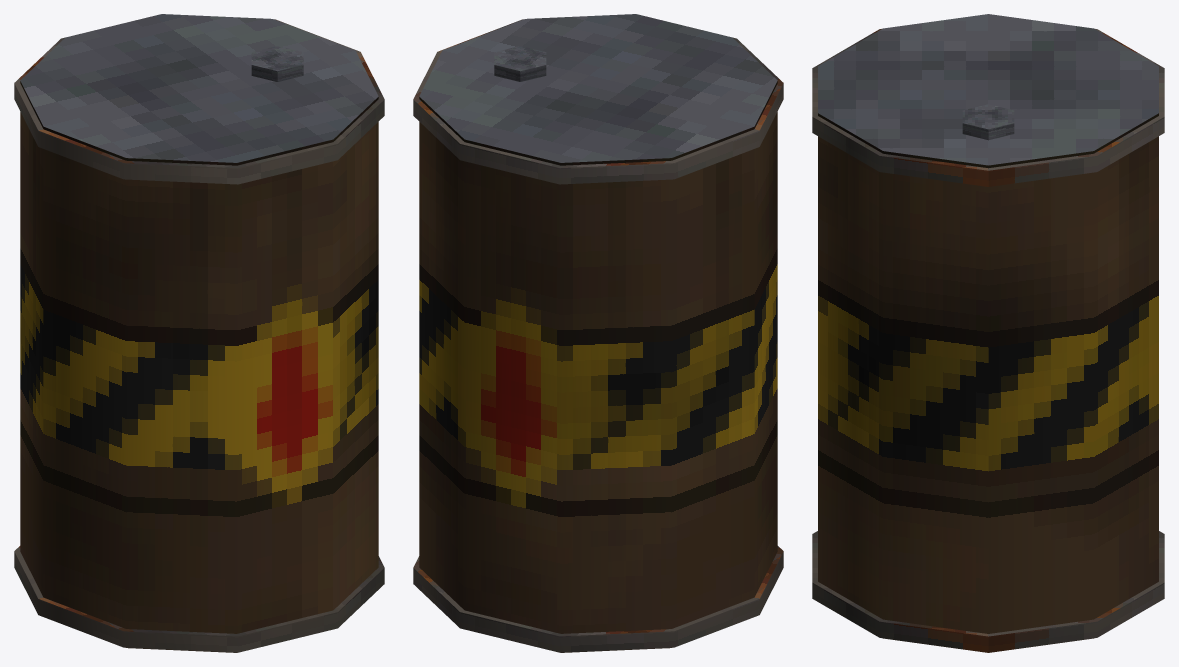
File: barrel_explosive.glb
3 views of the same model, side by side, from view 1: azimuth 30°, elevation 25°; view 2: azimuth 150°, elevation 25°; view 3: azimuth 270°, elevation 25° (orthographic).
Parts seen in each view (by area): view 1: barrel_explosive; view 2: barrel_explosive; view 3: barrel_explosive.
Boxes of the visible parts, bbox=[...] form: barrel_explosive: bbox=[14, 14, 384, 652]; barrel_explosive: bbox=[413, 14, 783, 652]; barrel_explosive: bbox=[812, 14, 1164, 652].
Size of the model in its own units: 0.62 by 0.92 by 0.5897.
1 material, 1 textured.
